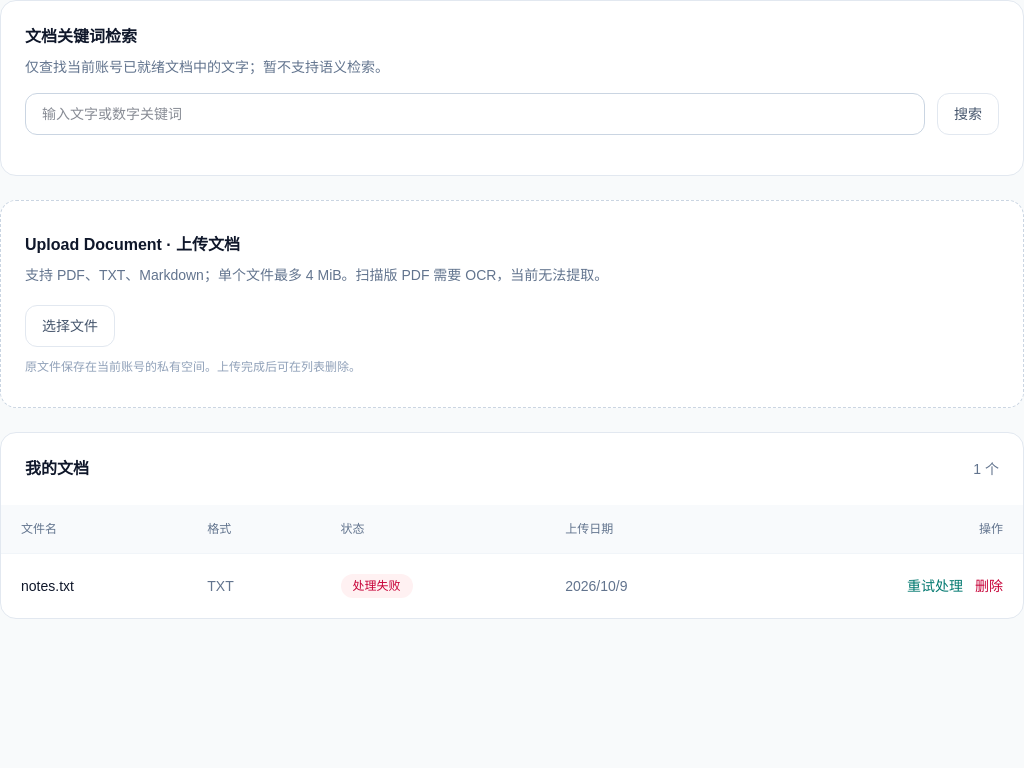
Test case: KnowledgeWorkspace › invalidates old results after successful processing retry
Expected: the text "notes.txt" is shown, [1, 554, 187, 618]
Type "过期" into the field named "知识库搜索关键词". click: (475,114)
box: [25, 93, 925, 135]
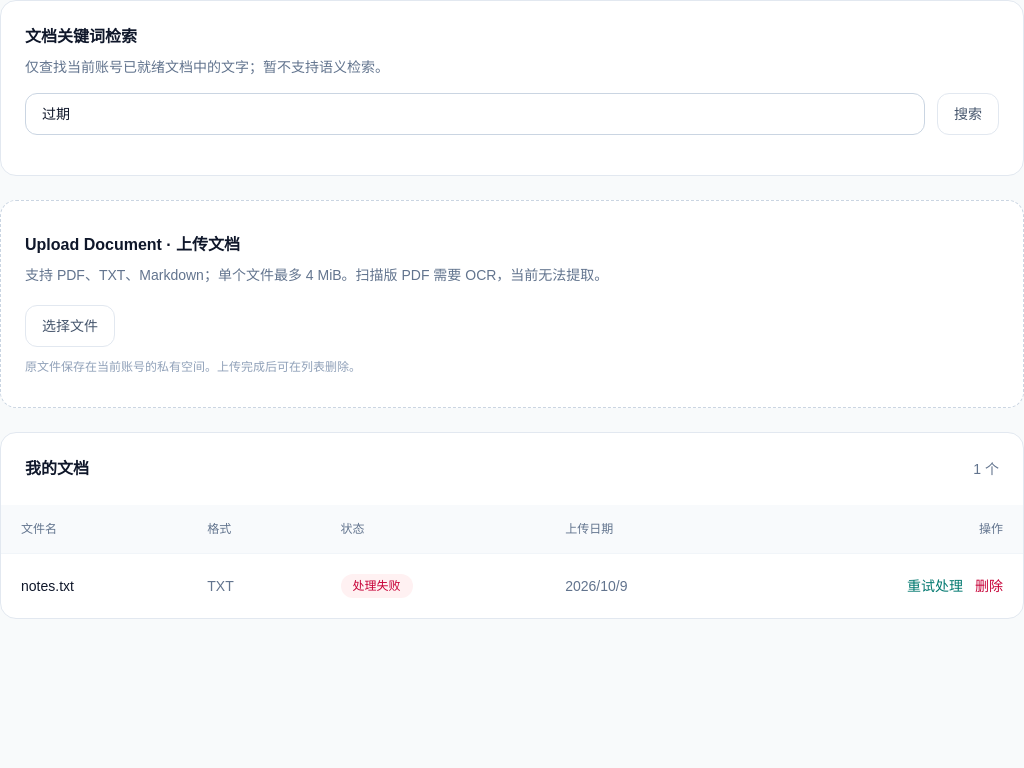
Click the button "搜索". click: (968,114)
box: [937, 93, 999, 135]
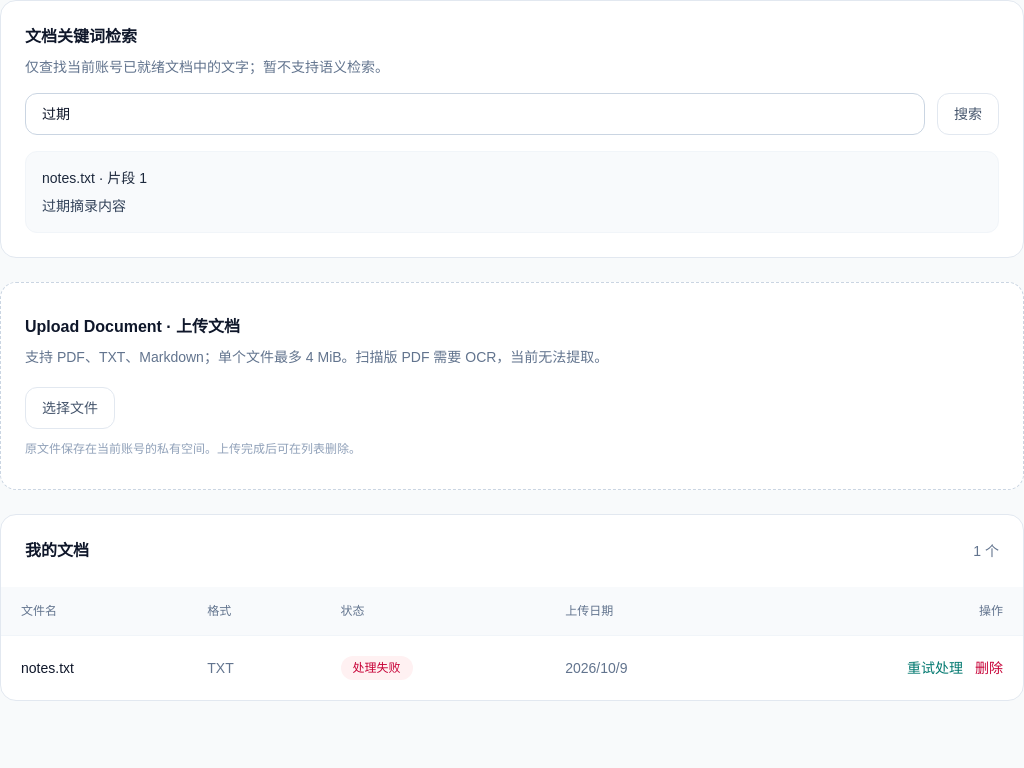
Now the text "过期摘录内容" is shown, box [42, 198, 126, 214]
Click the button "重试处理". click: (935,668)
box: [907, 658, 963, 678]
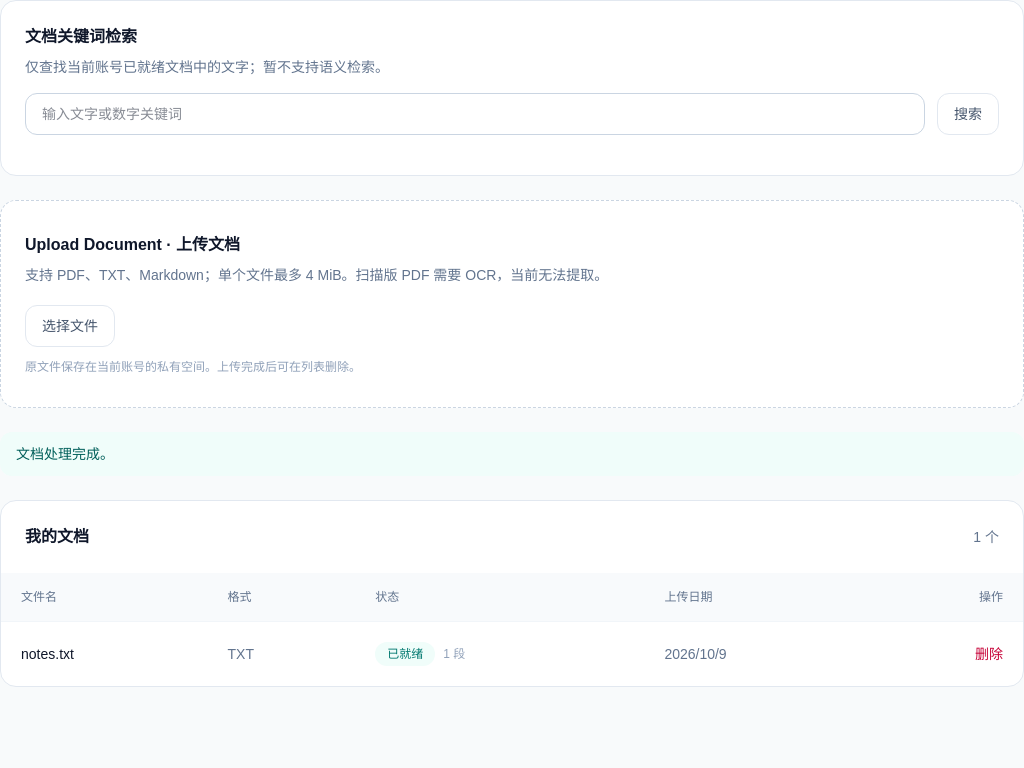
Now the text "文档处理完成。" is shown, box [0, 432, 1023, 476]
Now the text "过期摘录内容" is gone
